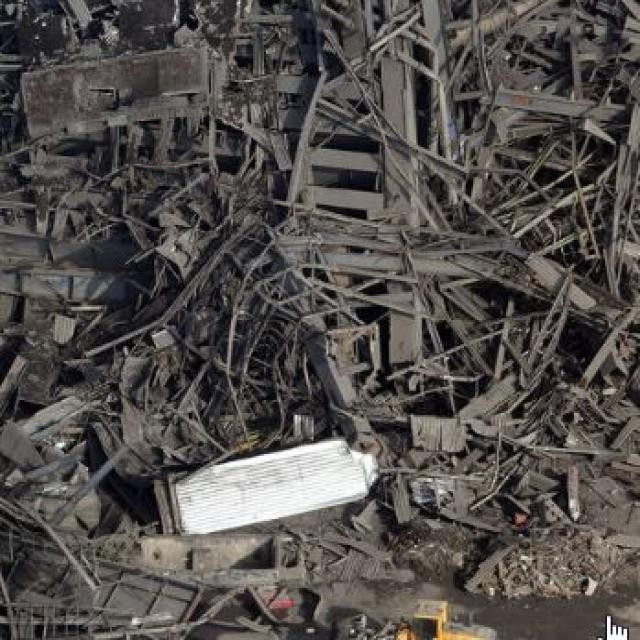collapsed_building: (0, 0, 622, 527)
